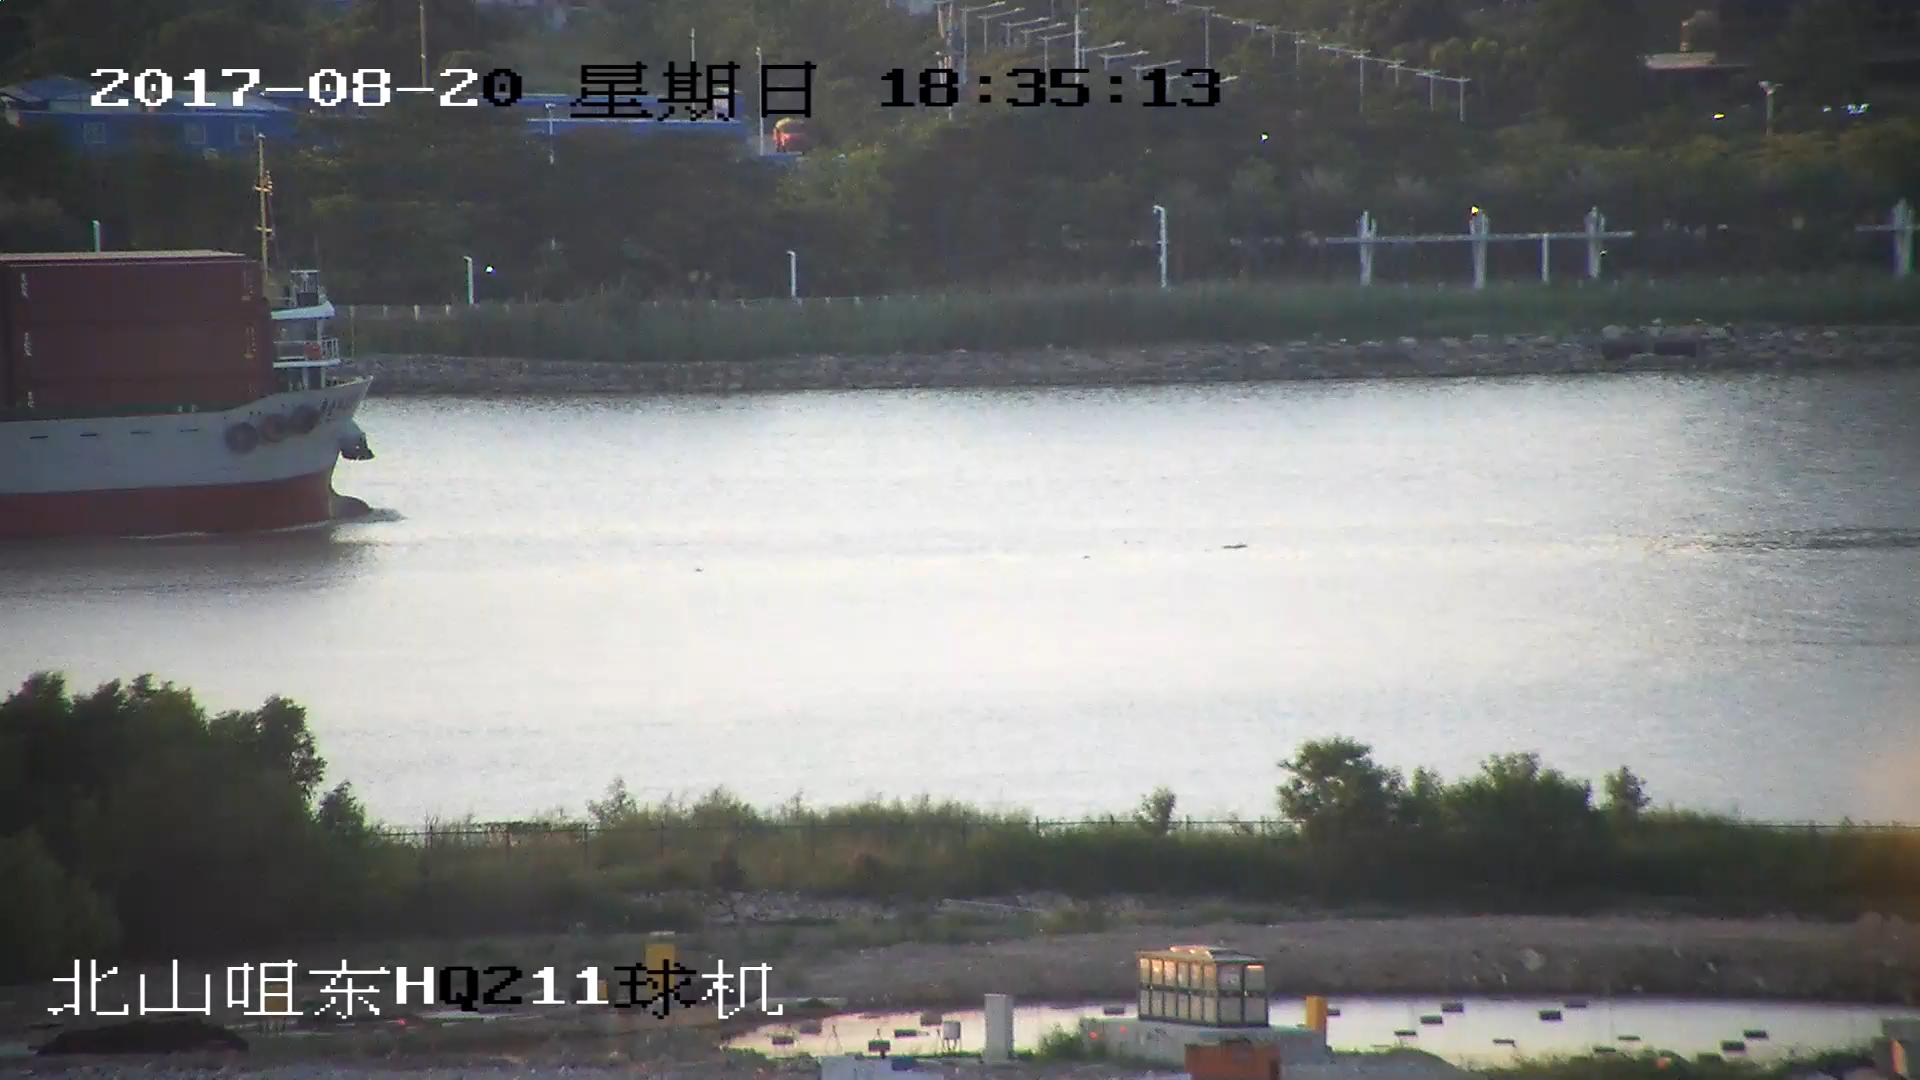container ship: (1, 242, 374, 546)
